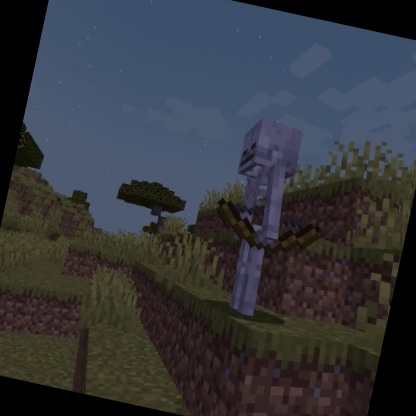skeleton: (190, 105, 347, 332)
